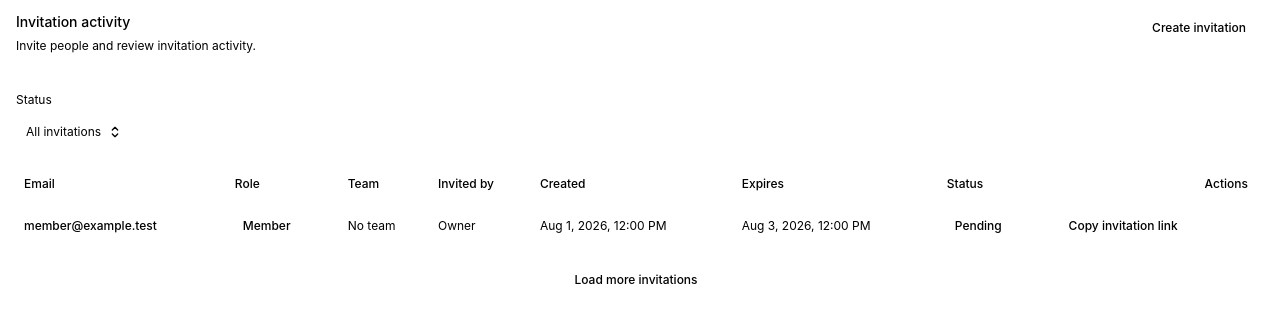
Test: requests the expired filter and then pages only within that filter
Step 1. Click the dropdown named "Status" → x=74, y=132, box top-left (16, 116), bottom-right (131, 148)
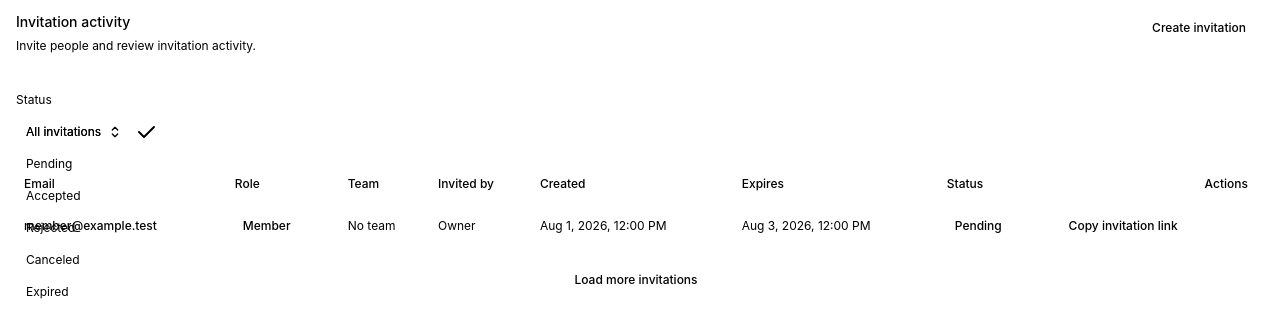
Step 2. Click the option "Expired" → x=47, y=292, box top-left (26, 284), bottom-right (69, 299)
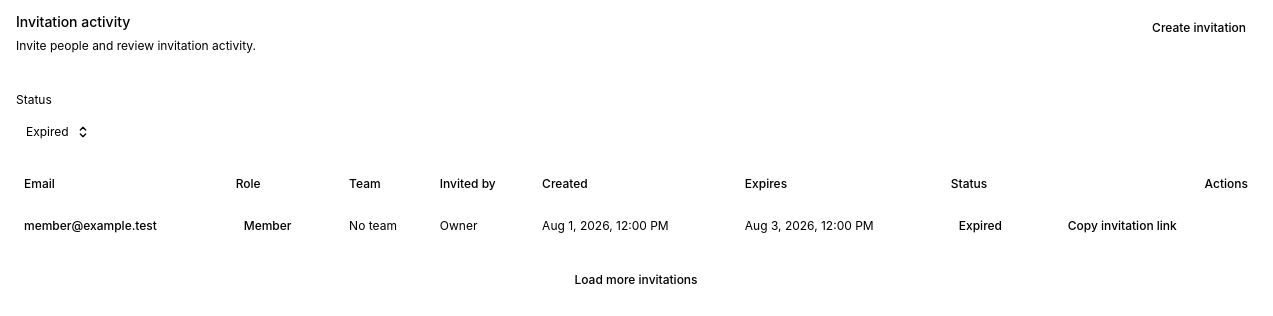
Step 3. Click the button "Load more invitations" → x=636, y=280, box top-left (16, 264), bottom-right (1256, 296)
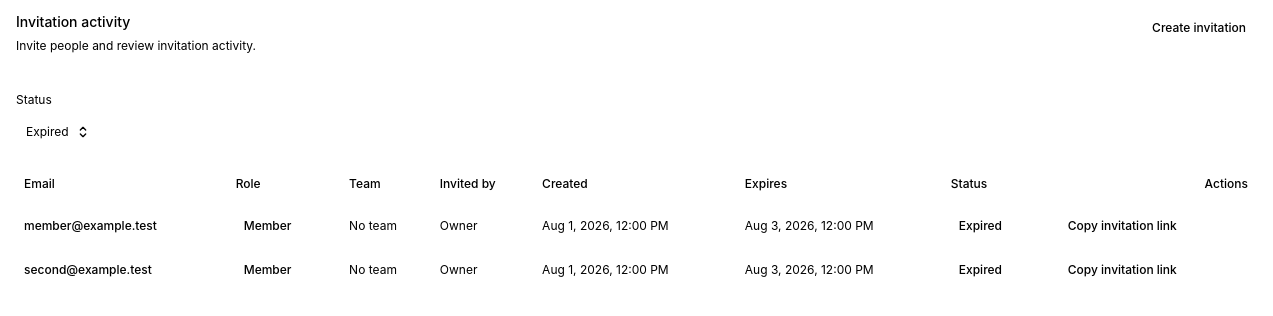
expect the text "second@example.test" is shown: met, box top-left (16, 248), bottom-right (228, 292)
